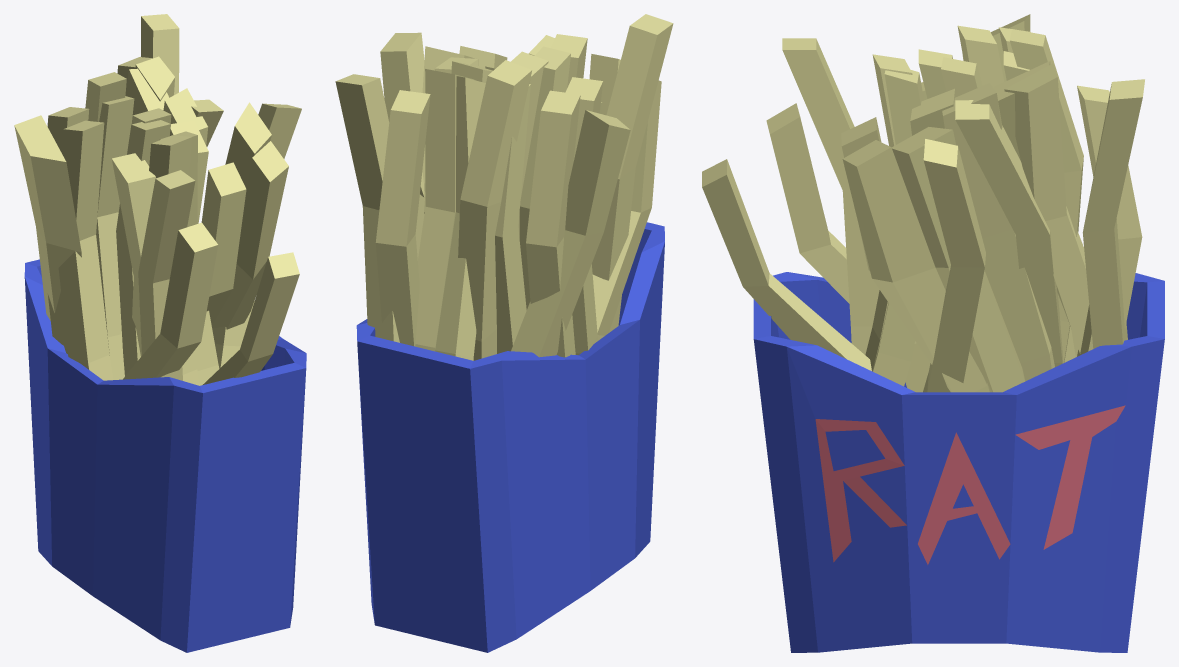
File: Fries.fbx
The picture shows the model from 3 angles, left to right: view 1: azimuth 30°, elevation 25°; view 2: azimuth 150°, elevation 25°; view 3: azimuth 270°, elevation 25°; orthographic projection. The views are drawn at different scales.
Parts seen in each view (by area): view 1: Cube; view 2: Cube; view 3: Cube.
Boxes of the visible parts, <box> form: Cube: <box>14,14,306,652</box>; Cube: <box>335,14,673,652</box>; Cube: <box>702,14,1164,652</box>.
Size of the model in its own units: 188 by 368 by 268.
